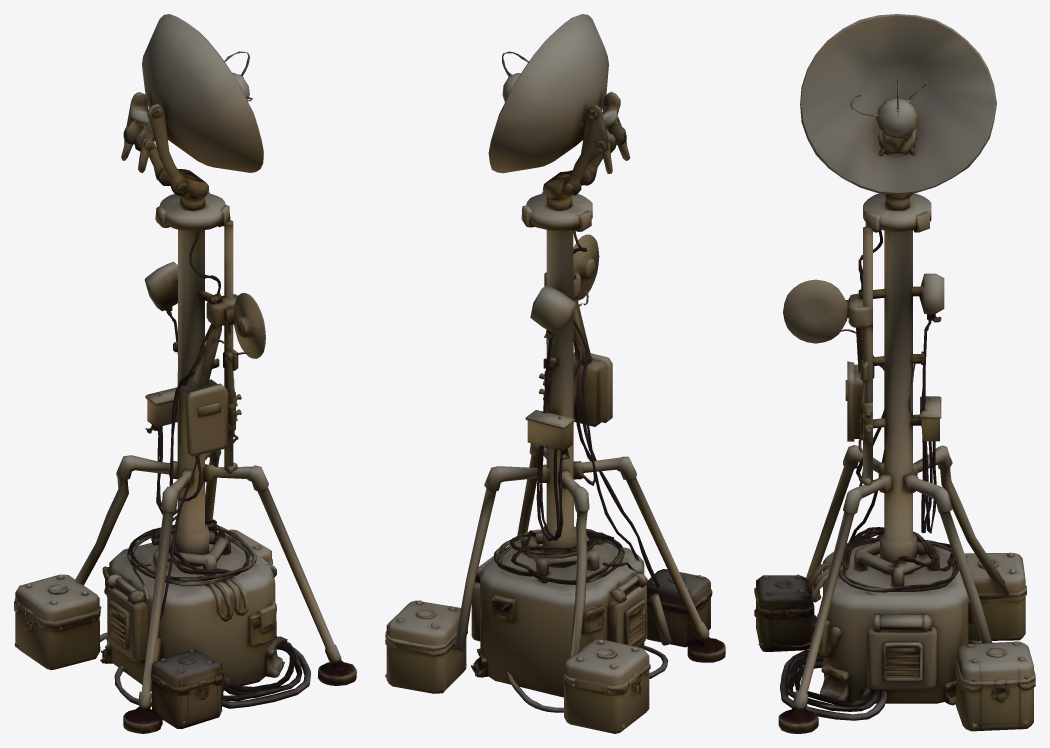
Rendered from ch5_meridian_comms_mast.glb.
3 renders of one model, left to right at view 1: azimuth 30°, elevation 25°; view 2: azimuth 150°, elevation 25°; view 3: azimuth 270°, elevation 25°, orthographic. The views are drawn at different scales.
Visible parts, largest first — view 1: tripo_node_35f3261e-9936-461f-8cbf-431a47ee86c6; view 2: tripo_node_35f3261e-9936-461f-8cbf-431a47ee86c6; view 3: tripo_node_35f3261e-9936-461f-8cbf-431a47ee86c6.
Boxes of the visible parts, <box> form: tripo_node_35f3261e-9936-461f-8cbf-431a47ee86c6: <box>14,14,356,733</box>; tripo_node_35f3261e-9936-461f-8cbf-431a47ee86c6: <box>385,14,725,733</box>; tripo_node_35f3261e-9936-461f-8cbf-431a47ee86c6: <box>754,14,1035,733</box>.
Bounding box in the file's own units: 0.3926 × 0.998 × 0.3848.
1 material, 1 textured.
